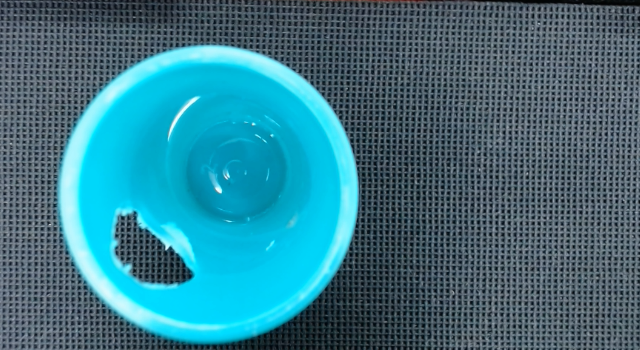hole: (113, 210, 194, 286)
